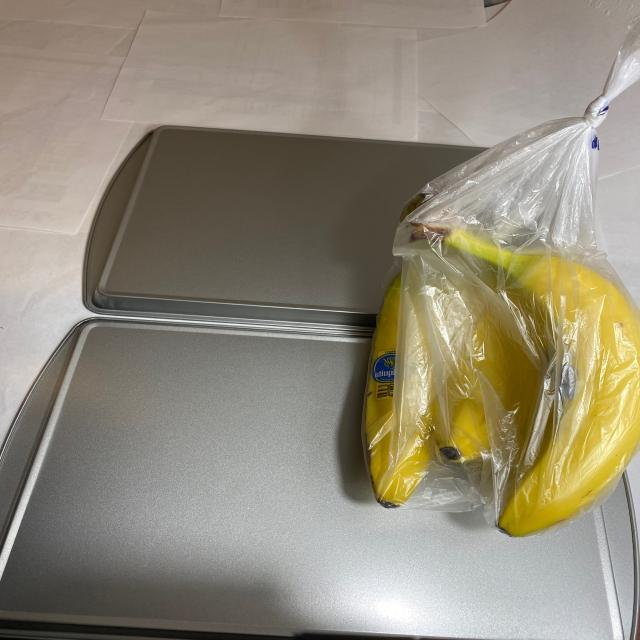banana: (349, 185, 638, 543)
